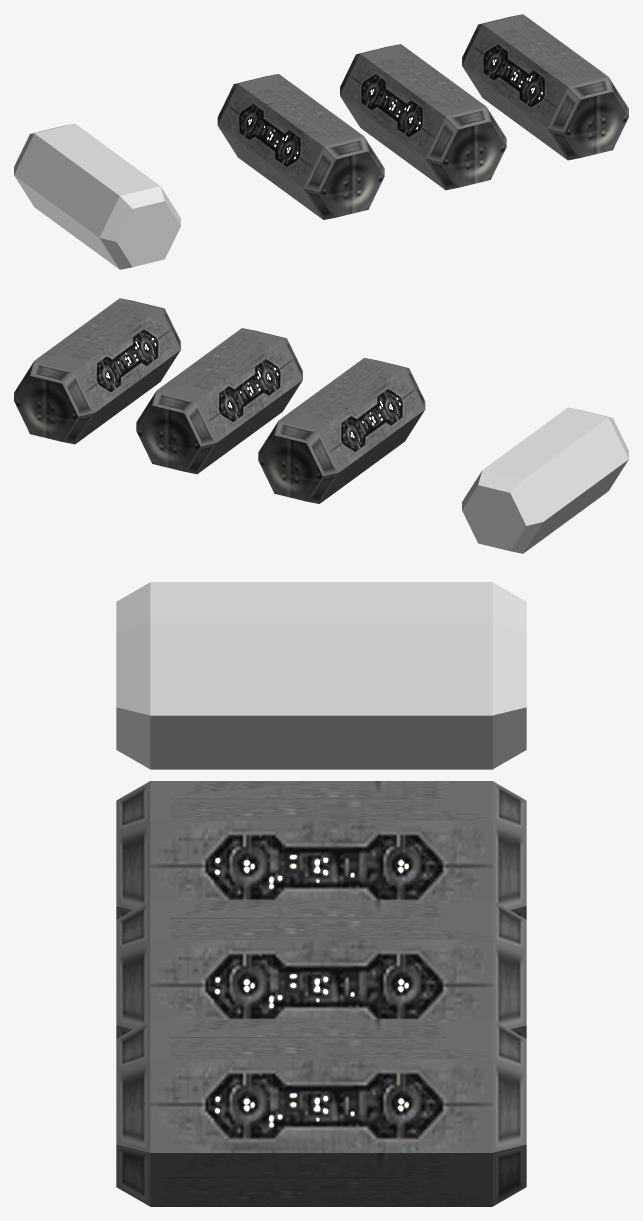
Rendered from ksh_sec_ms_gravgenerator.dae.
3 views of the same model, one above another, from view 1: azimuth 30°, elevation 25°; view 2: azimuth 150°, elevation 25°; view 3: azimuth 270°, elevation 25° (orthographic). The views are drawn at different scales.
Visible parts, largest first — view 1: MULT[root_mesh]_LOD[0], COL[Root], MULT[root_mesh]_LOD[2], MULT[root_mesh]_LOD[1]; view 2: MULT[root_mesh]_LOD[0], COL[Root], MULT[root_mesh]_LOD[2], MULT[root_mesh]_LOD[1]; view 3: COL[Root], MULT[root_mesh]_LOD[2], MULT[root_mesh]_LOD[1], MULT[root_mesh]_LOD[0].
Boxes of the visible parts, x1=… form: MULT[root_mesh]_LOD[0]: x1=217, y1=74, x2=384, y2=219; COL[Root]: x1=14, y1=123, x2=180, y2=269; MULT[root_mesh]_LOD[2]: x1=462, y1=14, x2=628, y2=160; MULT[root_mesh]_LOD[1]: x1=340, y1=44, x2=506, y2=190; MULT[root_mesh]_LOD[0]: x1=258, y1=358, x2=425, y2=503; COL[Root]: x1=462, y1=407, x2=628, y2=553; MULT[root_mesh]_LOD[2]: x1=14, y1=298, x2=180, y2=444; MULT[root_mesh]_LOD[1]: x1=136, y1=328, x2=302, y2=474; COL[Root]: x1=116, y1=582, x2=526, y2=769; MULT[root_mesh]_LOD[2]: x1=116, y1=1019, x2=526, y2=1206; MULT[root_mesh]_LOD[1]: x1=116, y1=900, x2=526, y2=1038; MULT[root_mesh]_LOD[0]: x1=116, y1=781, x2=526, y2=919.
Size of the model in its own units: 572 by 76.21 by 192.
Materials: 4 (4 with a texture image).
